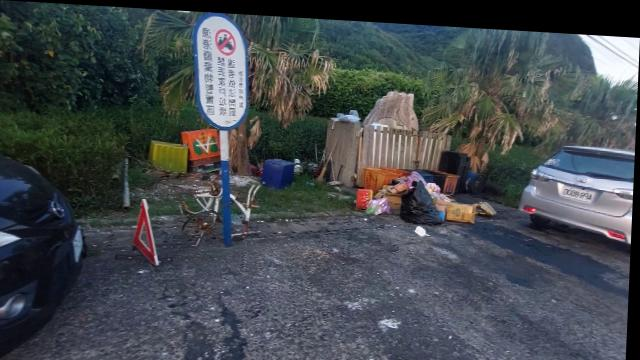pollute: (356, 164, 500, 220), (147, 126, 220, 173), (178, 177, 225, 235), (233, 178, 262, 228), (261, 154, 299, 186), (417, 220, 431, 230)
